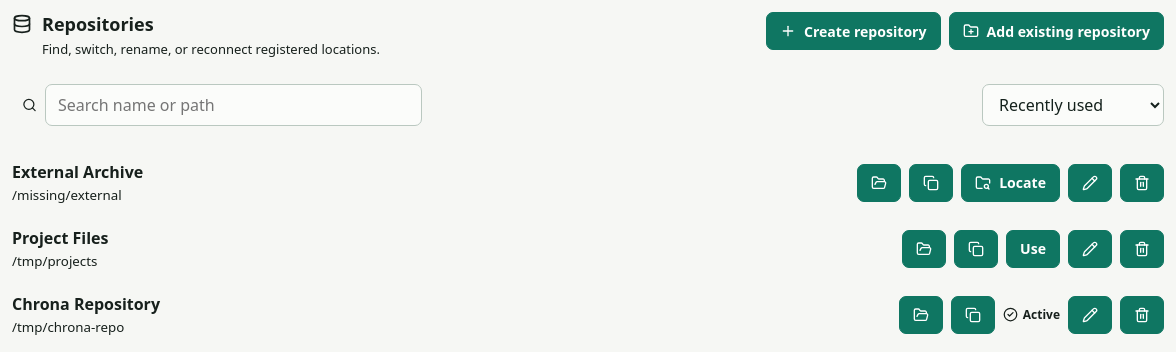
Test: searches and sorts registered repositories
Select "Name" in the dropdown named "Sort repositories" at (1073, 104), box [982,84,1164,126]
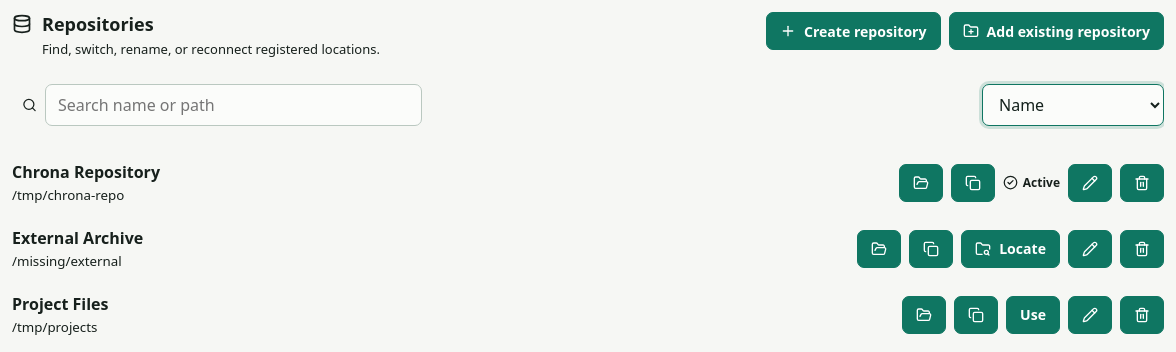
Expected: the text "Chrona Repository" is shown, [12,161,160,183]
Expected: the text "External Archive" is shown, [12,227,143,249]
Type "project" into the search field named "Search repositories" at (234, 104), box [45,84,422,126]
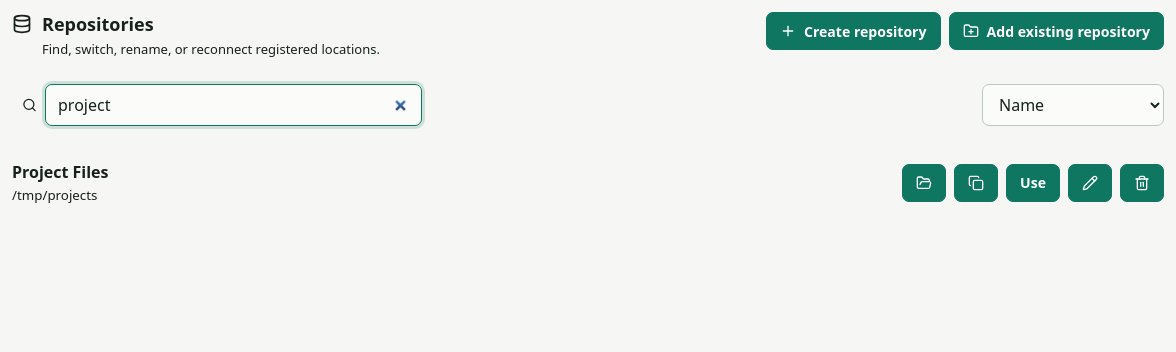
Expected: the text "Project Files" is shown, [12,161,108,183]
Now the text "Chrona Repository" is gone
